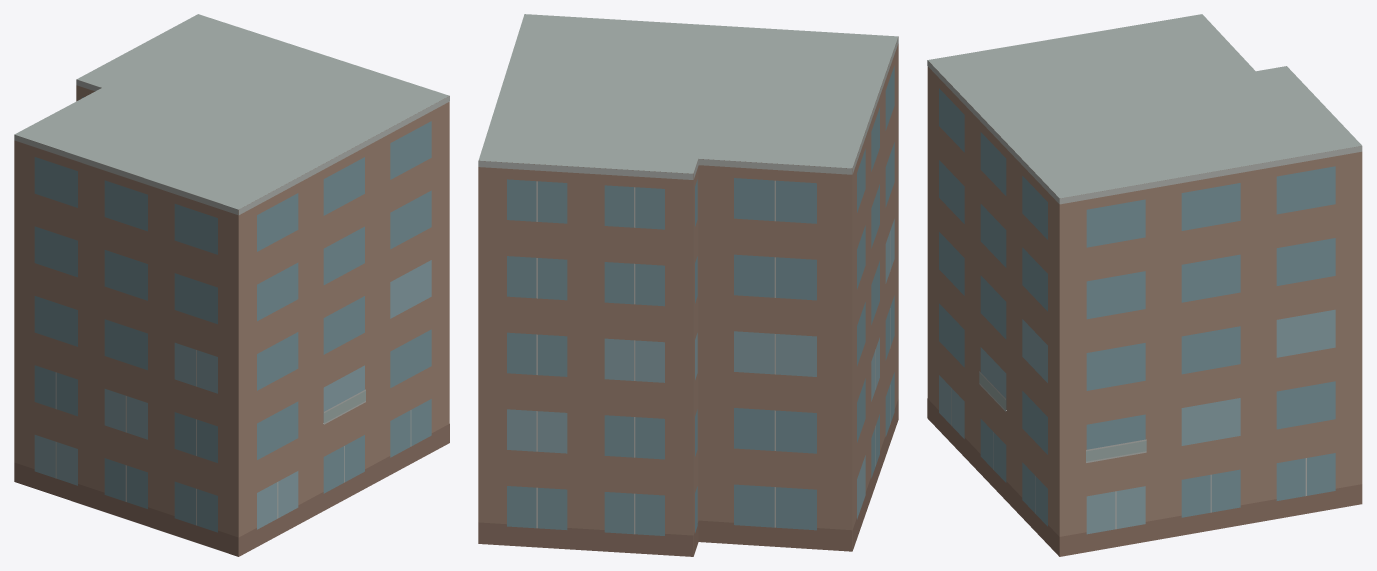
Rendered from survey-upis-32910243.glb.
3 renders of one model, left to right at view 1: azimuth 30°, elevation 25°; view 2: azimuth 150°, elevation 25°; view 3: azimuth 270°, elevation 25°, orthographic. The views are drawn at different scales.
Parts seen in each view (by area): view 1: survey-upis-32910243.tmp; view 2: survey-upis-32910243.tmp; view 3: survey-upis-32910243.tmp.
Boxes of the visible parts, bbox=[...] form: survey-upis-32910243.tmp: bbox=[14, 14, 449, 556]; survey-upis-32910243.tmp: bbox=[478, 14, 898, 556]; survey-upis-32910243.tmp: bbox=[927, 14, 1362, 556].
Size of the model in its own units: 16.24 by 14.7 by 16.17.
